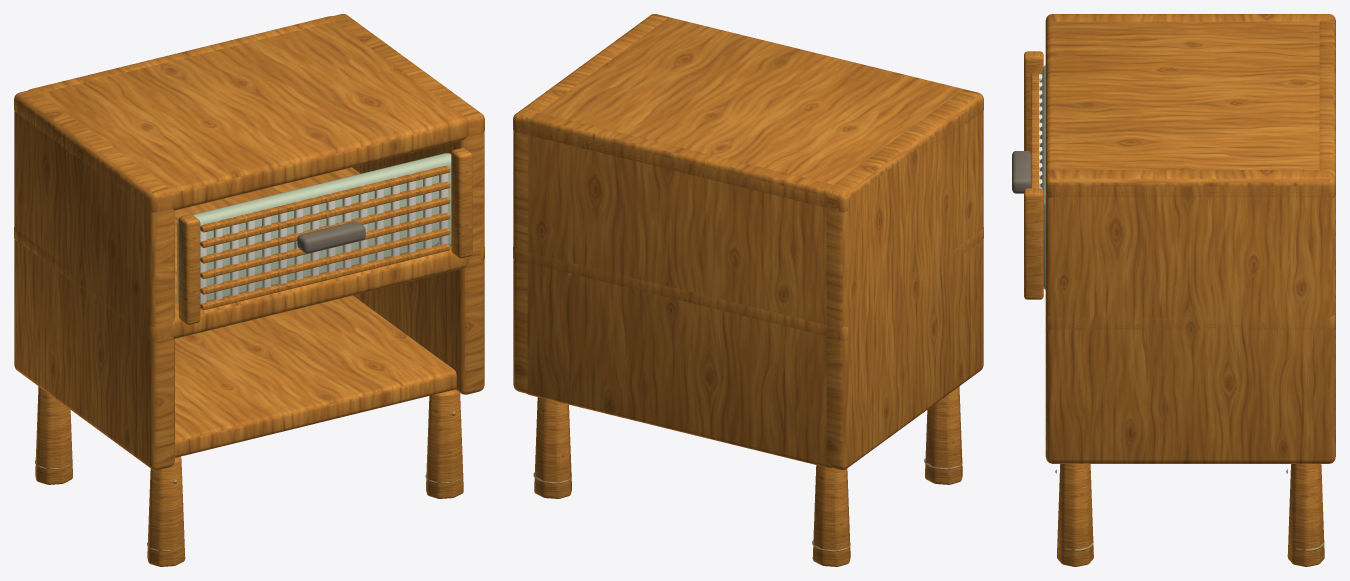
Rendered from cane-nightstand.glb.
The picture shows the model from 3 angles, left to right: view 1: azimuth 30°, elevation 25°; view 2: azimuth 150°, elevation 25°; view 3: azimuth 270°, elevation 25°; orthographic projection. The views are drawn at different scales.
Parts seen in each view (by area): view 1: cane-nightstand; view 2: cane-nightstand; view 3: cane-nightstand.
Part boxes in pixels (x1,y1,x2,y2): cane-nightstand: (14,14,484,566); cane-nightstand: (513,14,983,566); cane-nightstand: (1012,14,1335,566).
Bounding box in the file's own units: 0.54 × 0.59 × 0.44.
Materials: 6 (1 with a texture image).
